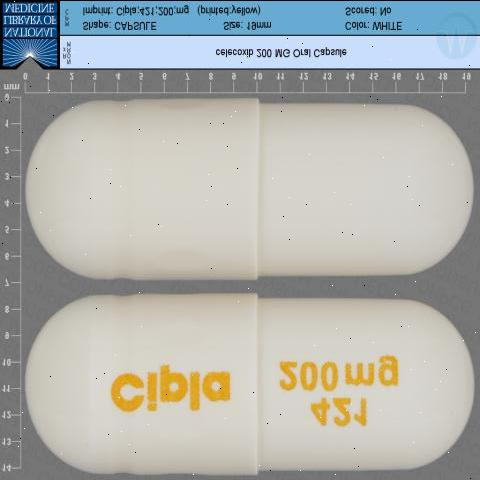Pill: (13, 283, 475, 480), (25, 90, 478, 284)
